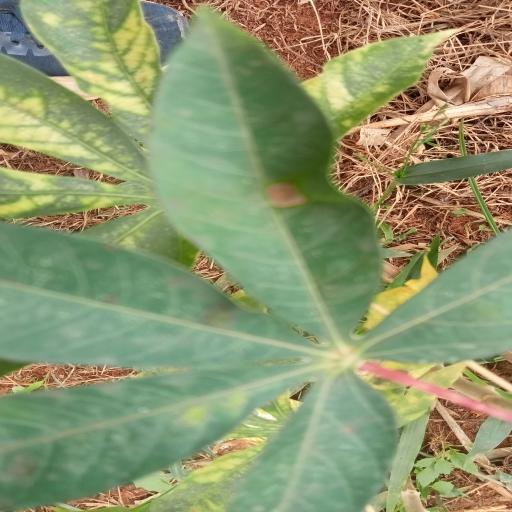Cassava_Healthy: (11, 2, 512, 512)
